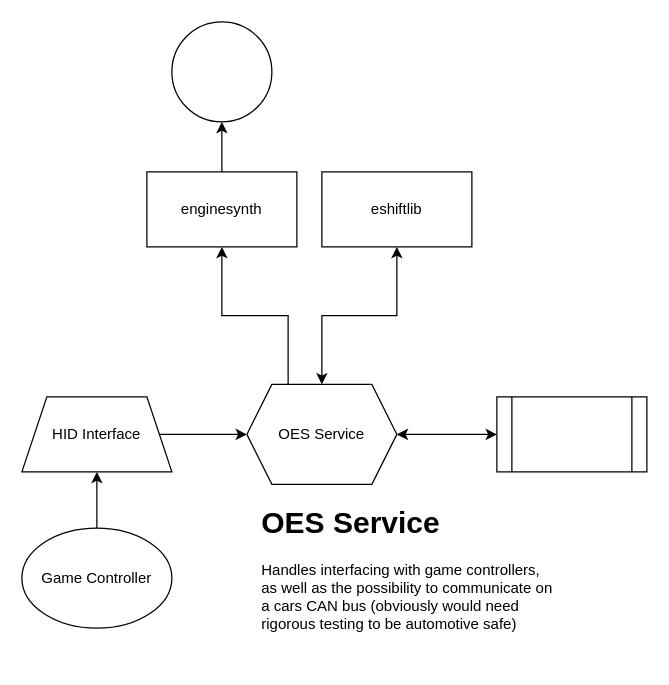
This 669x685 diagram has some shape labels left out. The shapes that lost their labels are listed below. From the top down, each one's box as (x1, y1, x2, y2) in pixels, then its label:
(171, 21, 272, 122): Device Output
(496, 396, 647, 472): CAN Bus
